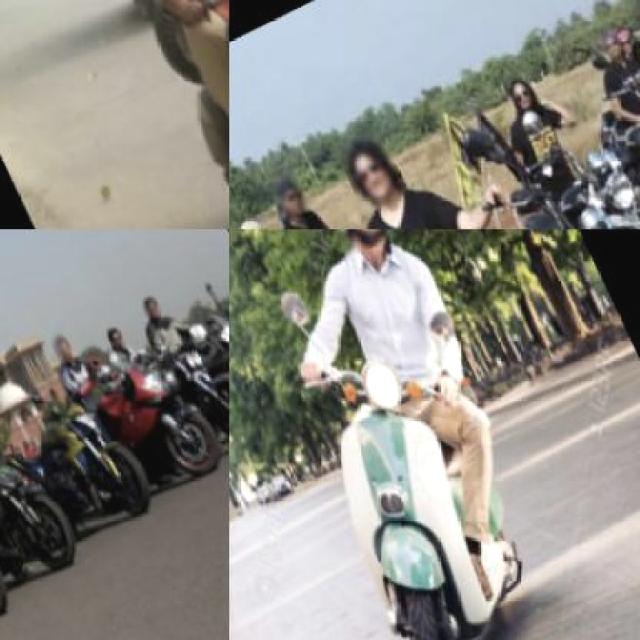With Helmet: (302, 229, 406, 266)
Without Helmet: (332, 126, 410, 219), (484, 57, 548, 129), (266, 171, 312, 226), (594, 31, 626, 71), (46, 330, 74, 372), (229, 209, 280, 228), (103, 322, 128, 356), (135, 293, 160, 324)
